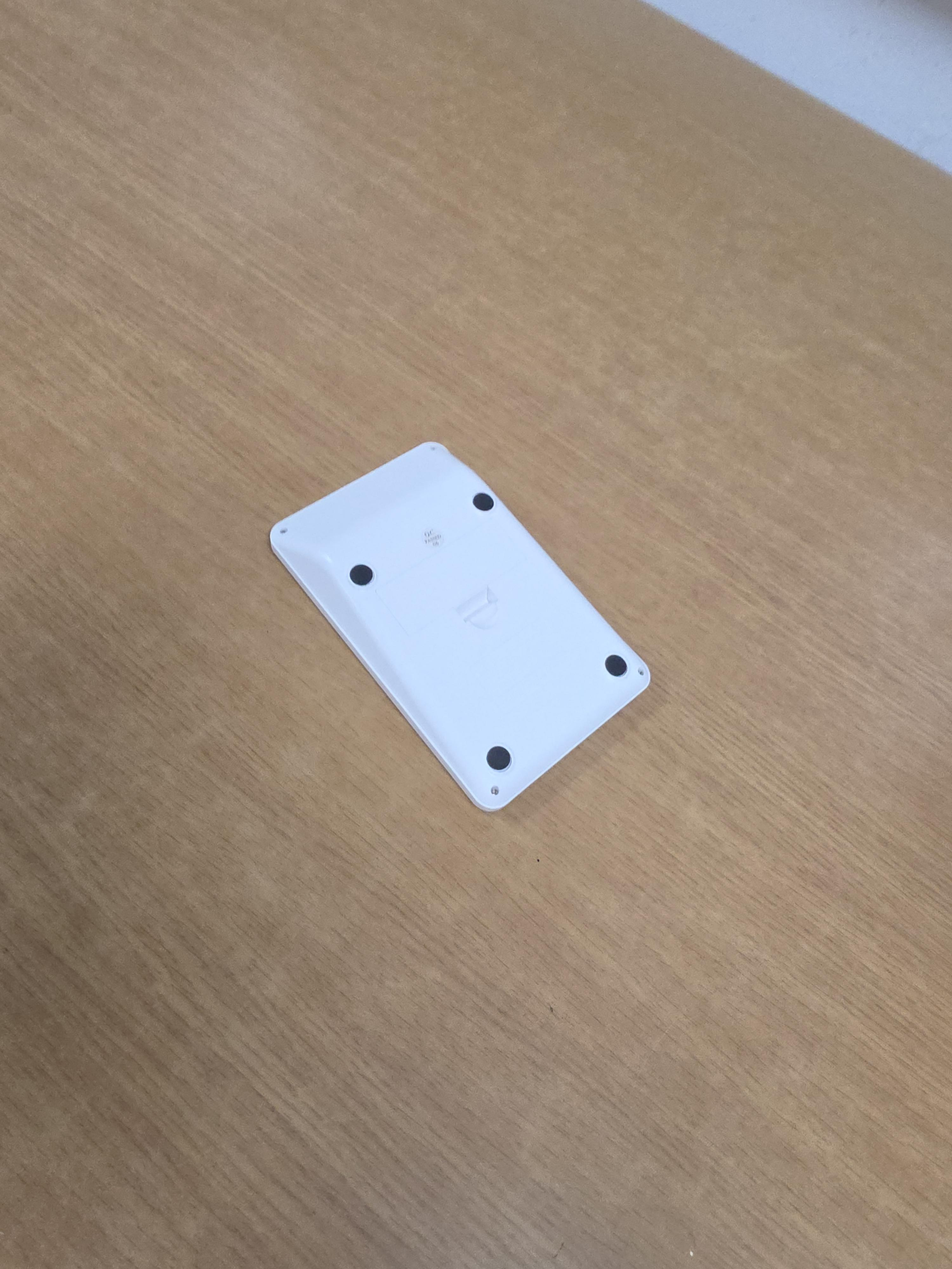calculator: (267, 441, 653, 813)
